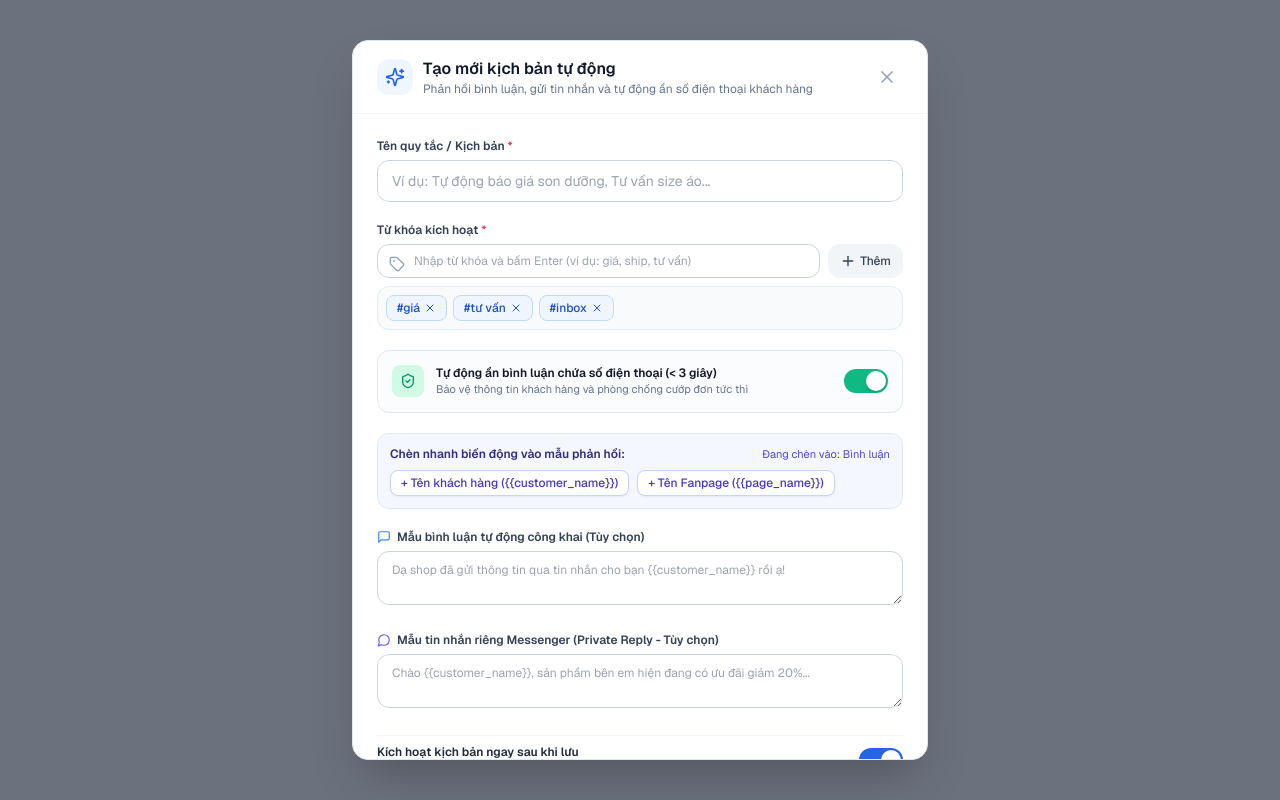
Automation Rules Subsystem (TASK-18) › 2. RuleModal Component › cho phép thêm và xóa tag từ khóa kích hoạt
Type "freeship" into the field with placeholder "Nhập từ khóa và bấm Enter (ví dụ: giá, ship, tư vấn)". click: coordinates (599, 261)
box: [377,244,820,278]
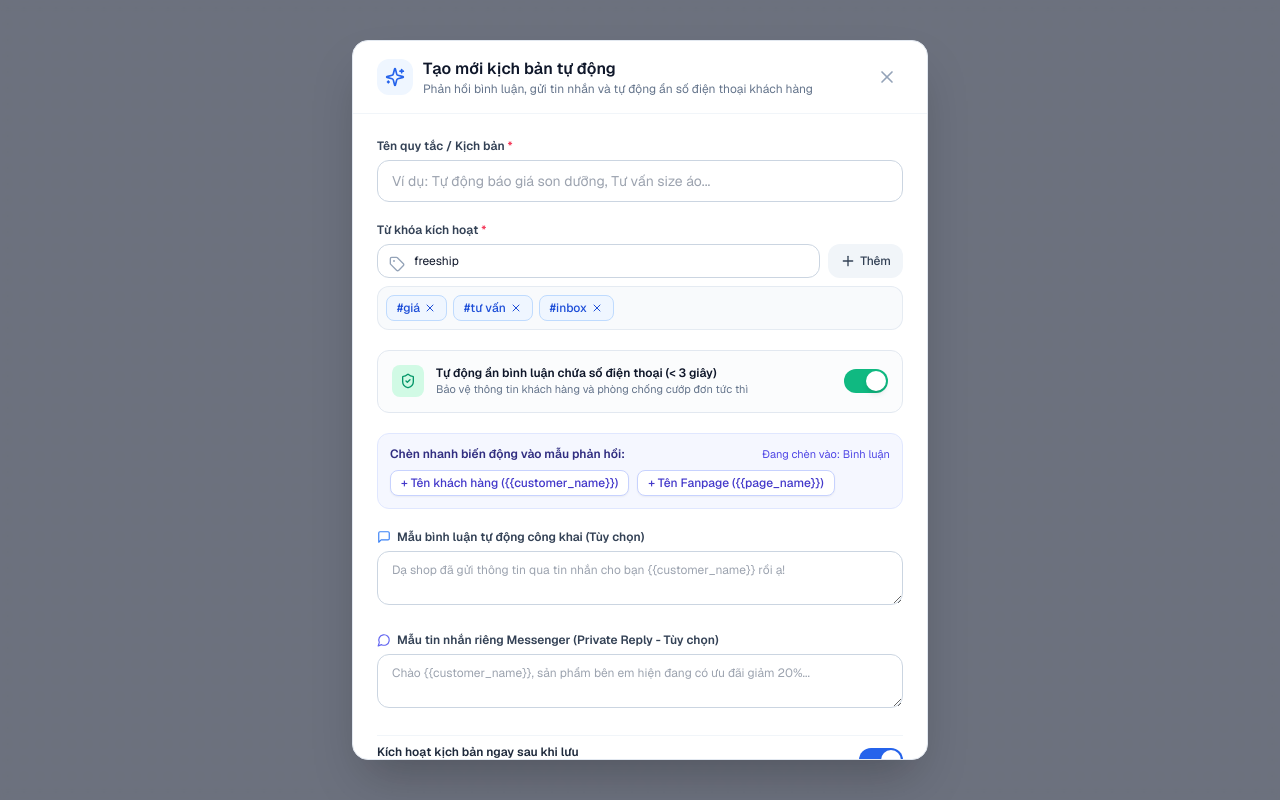
Press Enter in the field with placeholder "Nhập từ khóa và bấm Enter (ví dụ: giá, ship, tư vấn)", box [377,244,820,278]
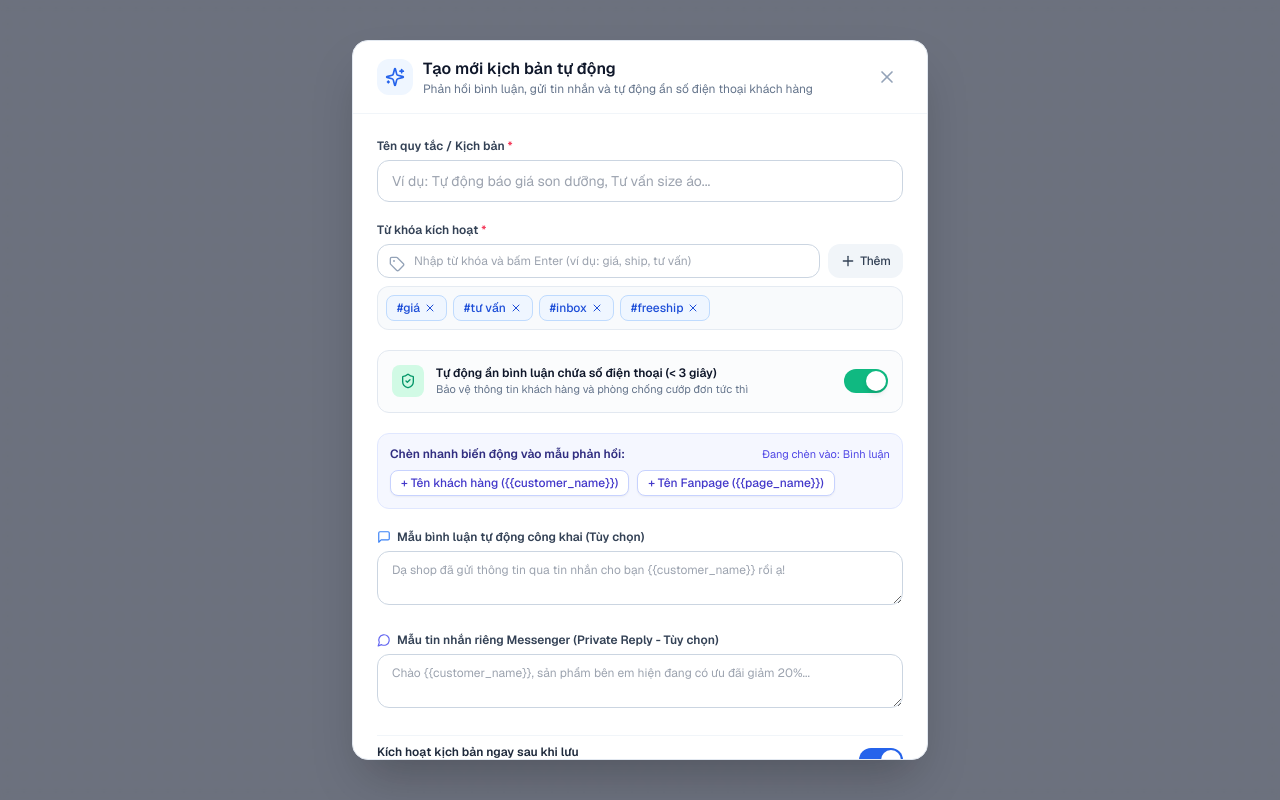
Expected: the text "#freeship" is shown, [620,295,710,321]
Note: Xóa tag từ khóa
Click the button named "Xóa từ khóa freeship". click: coordinates (693, 308)
box: [687,302,699,314]
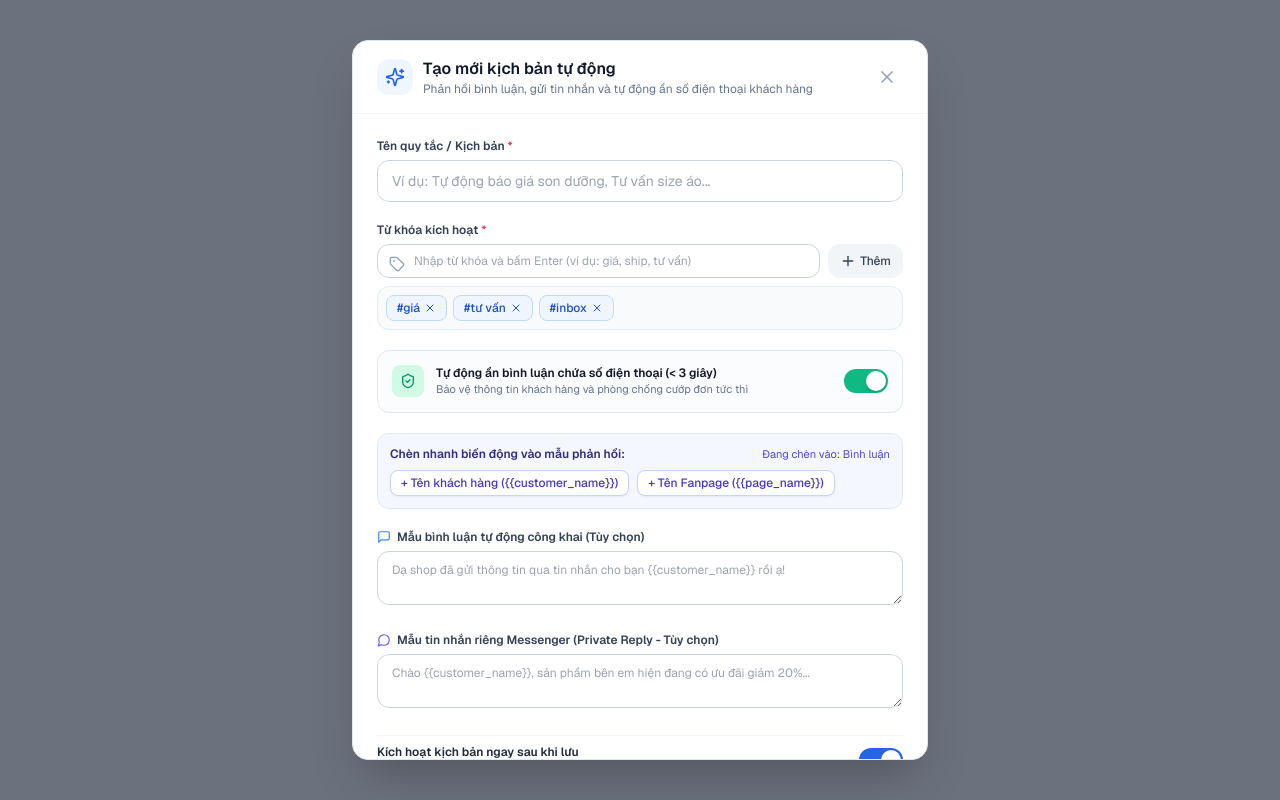
Expected: the text "#freeship" is gone
